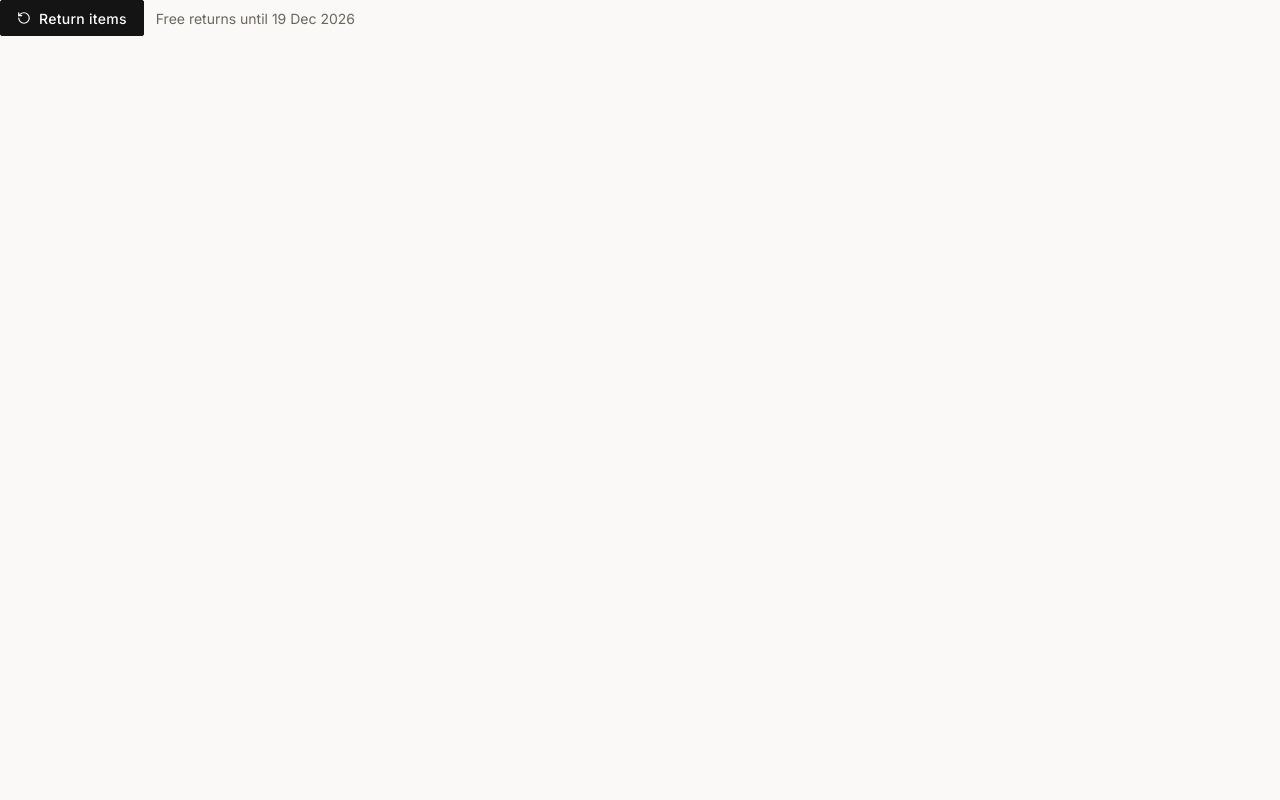
Test: returns › requests a return of the chosen quantities with a reason and the guest token
The image size is (1280, 800).
Later steps or results of the test are not shown.
What coordinates should you click on to do the following:
click the button "Return items"
I would click on:
 (72, 18)
Its box is top-left (0, 0), bottom-right (144, 36).
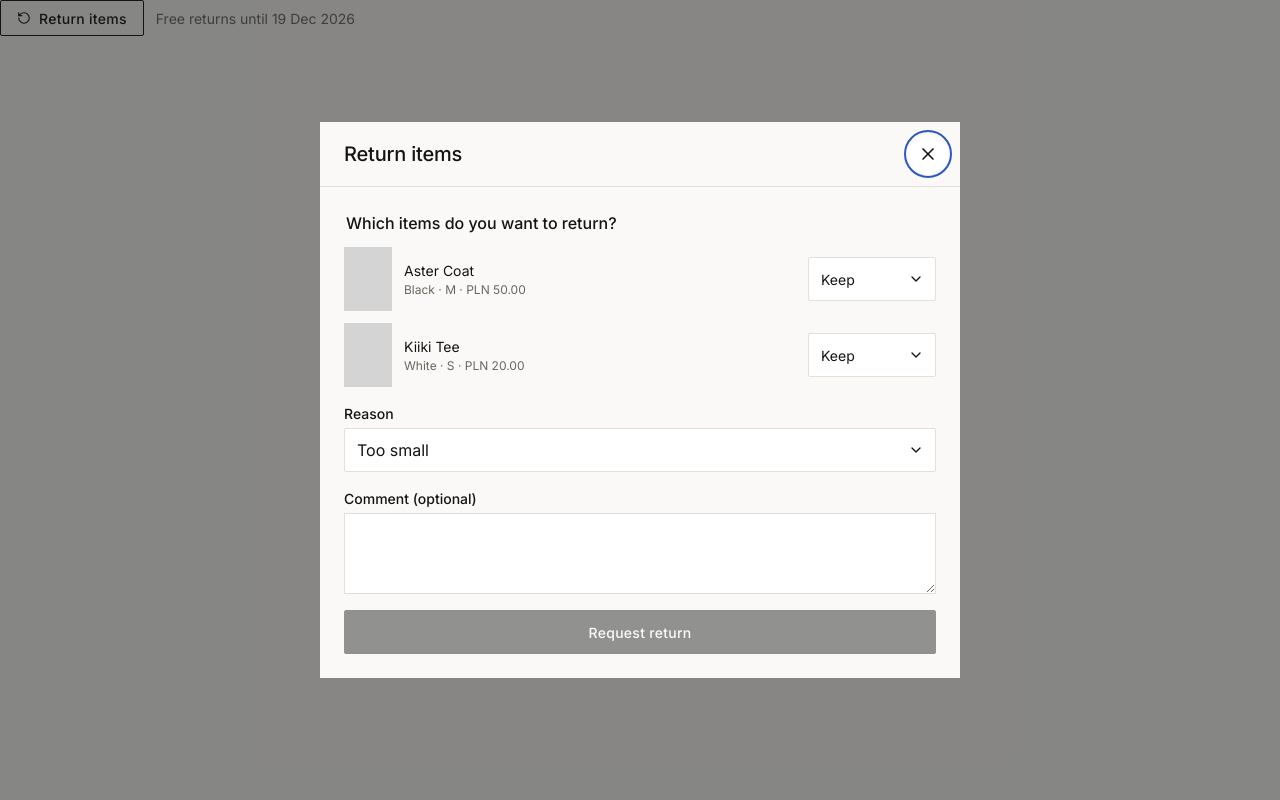
Result: the button "Request return" is disabled at top-left (344, 610), bottom-right (936, 654)
